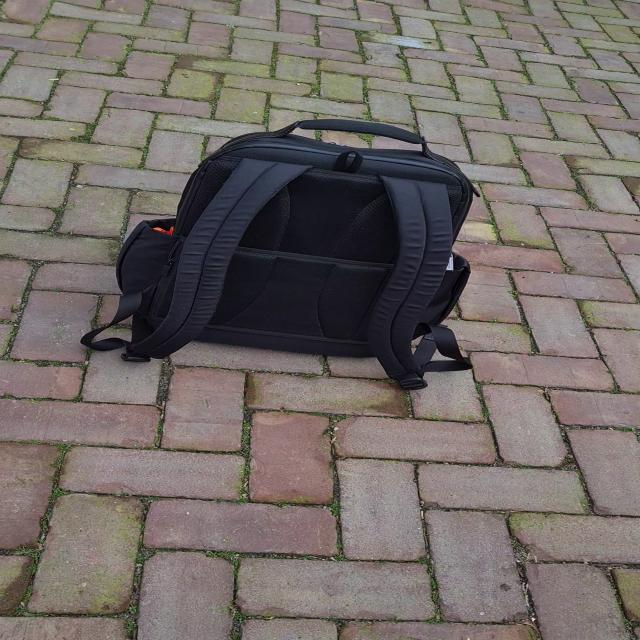backpack: (96, 117, 485, 390)
